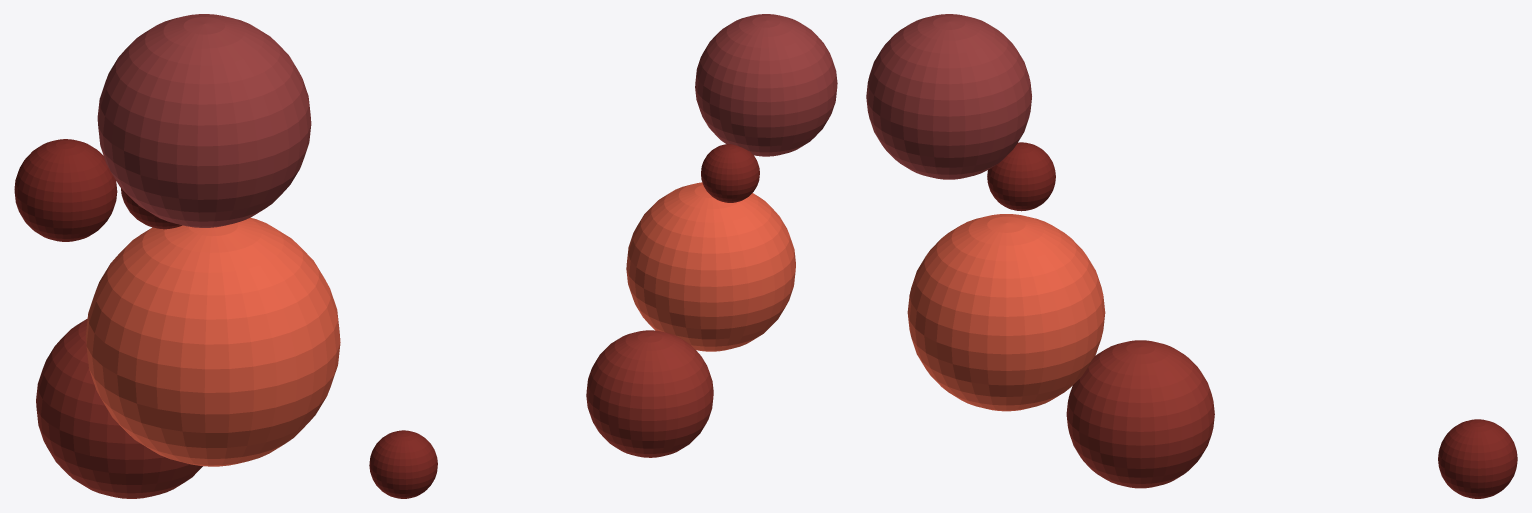
File: Kugelsturz_3.glb
The picture shows the model from 3 angles, left to right: view 1: azimuth 30°, elevation 25°; view 2: azimuth 150°, elevation 25°; view 3: azimuth 270°, elevation 25°; orthographic projection. The views are drawn at different scales.
Visible parts, largest first — view 1: Sphere003, Sphere006; view 2: Sphere003, Sphere006; view 3: Sphere003, Sphere006.
Part boxes in pixels (x1=…): Sphere003: x1=36, y1=14, x2=340, y2=498; Sphere006: x1=14, y1=139, x2=117, y2=241; Sphere003: x1=586, y1=14, x2=837, y2=457; Sphere006: x1=369, y1=430, x2=437, y2=498; Sphere003: x1=866, y1=14, x2=1214, y2=488; Sphere006: x1=1438, y1=419, x2=1517, y2=498.
Size of the model in its own units: 4.72 by 7.54 by 10.1.
